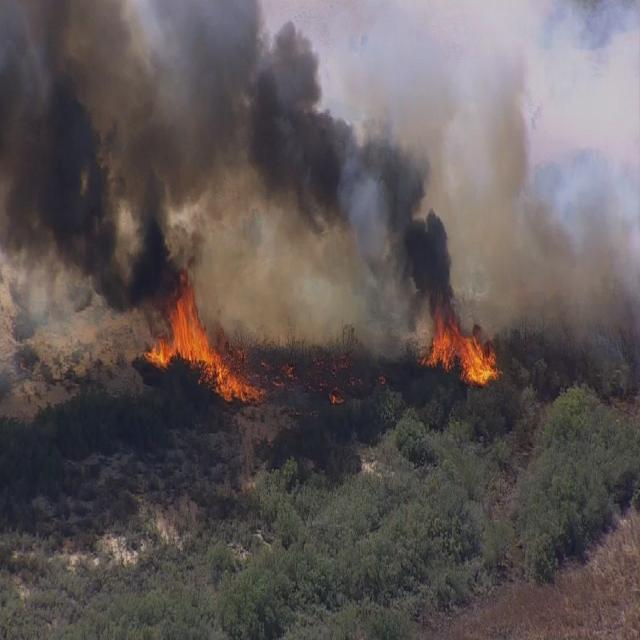Fire: (154, 283, 261, 421), (426, 304, 503, 392)
Smoke: (225, 44, 479, 353), (0, 29, 219, 345)
